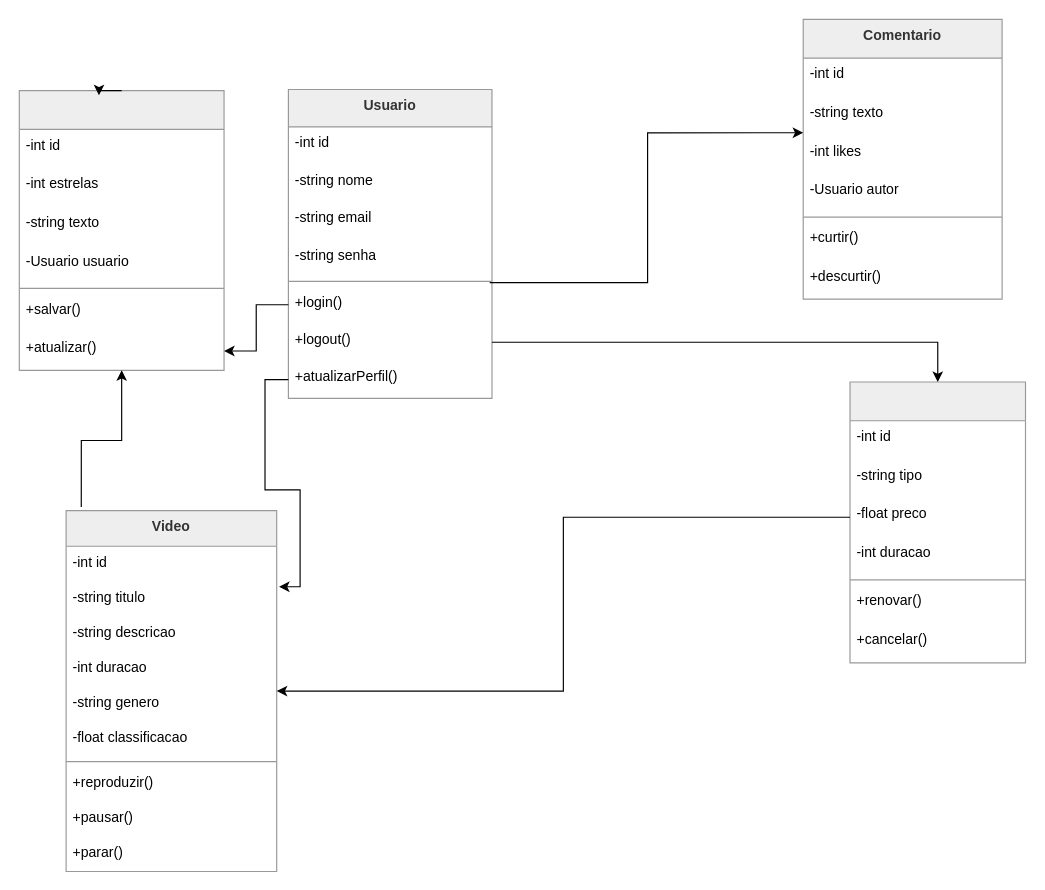
The diagram is 1045 pixels wide and 890 high, and some of its shapes have lost their labels. Each missing label, with the box of its shape:
Assinatura: (849, 381, 1026, 663)
Avaliacao: (18, 89, 224, 370)
